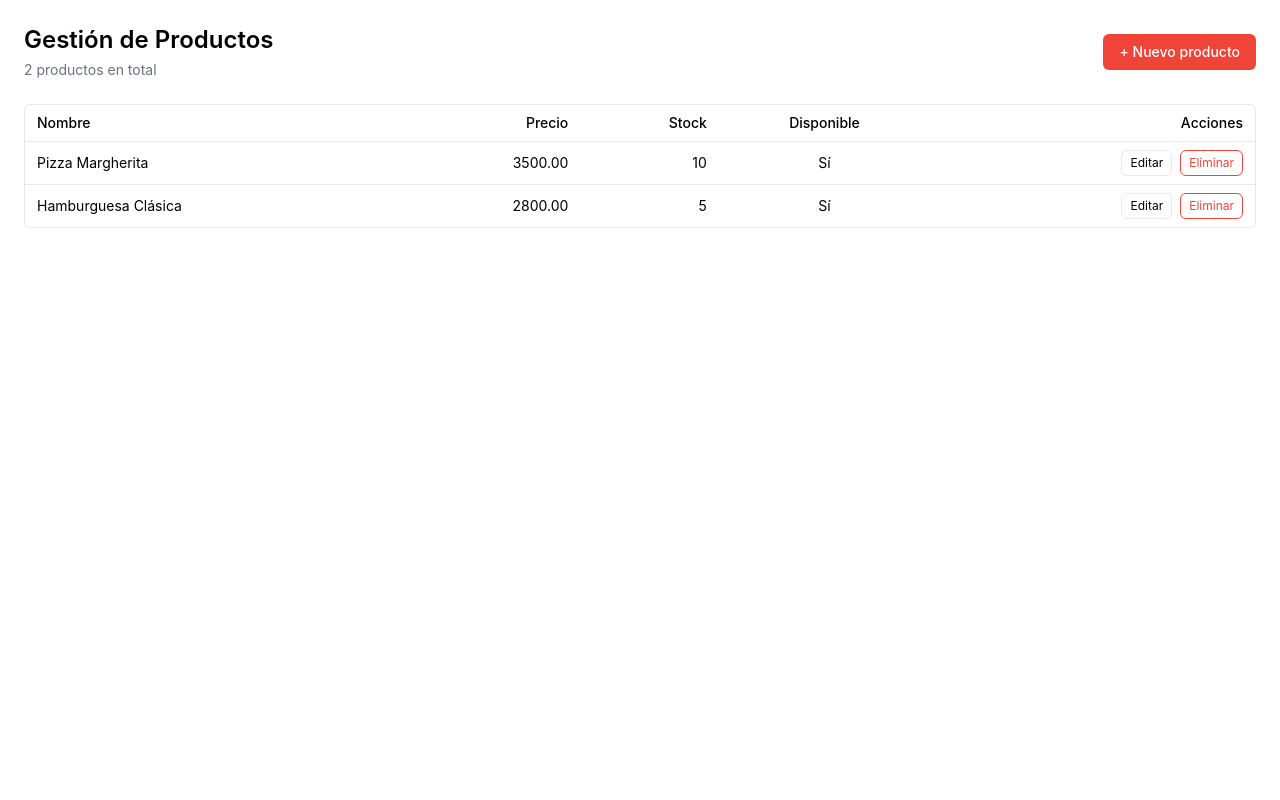
Test: StockProductsPage › opens edit modal with pre-populated name when "Editar" is clicked
Step 1. Click the button "Editar" in the row of "Pizza Margherita" → [1147, 163], box [1122, 150, 1172, 176]
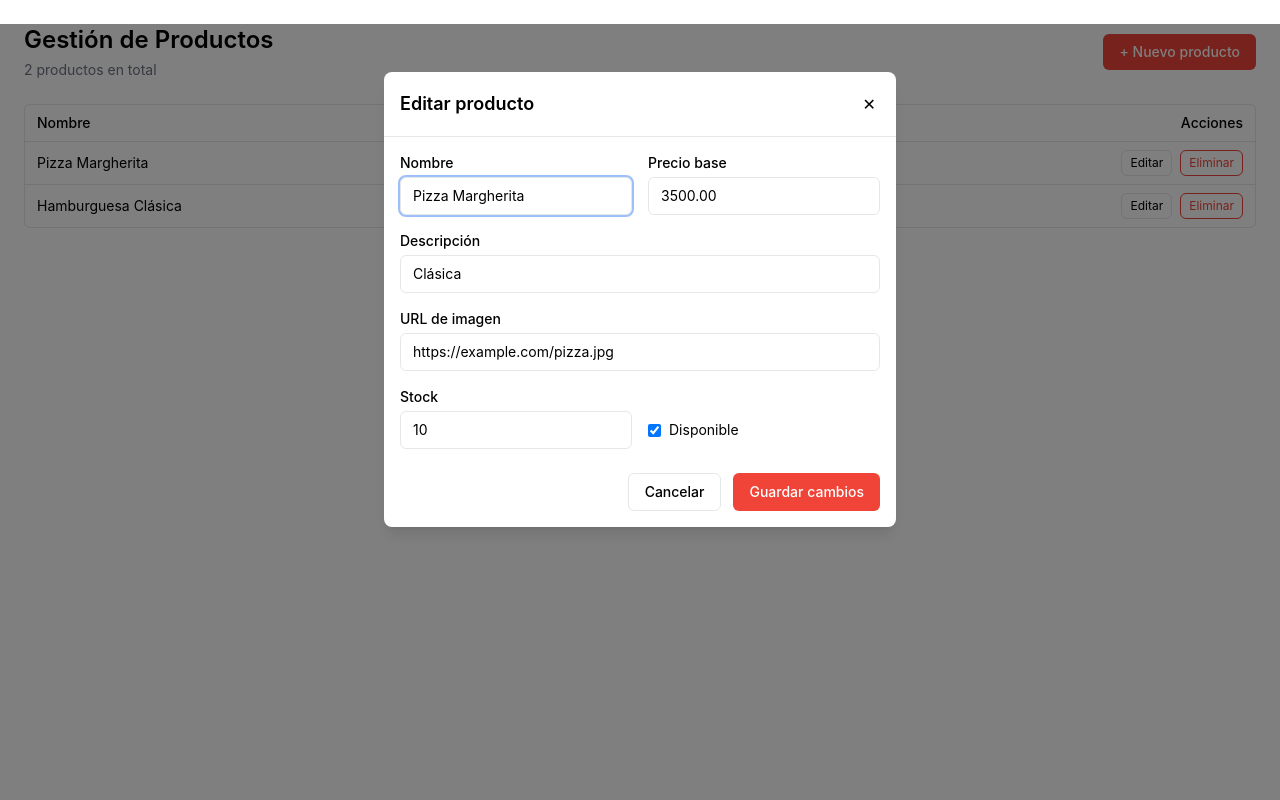
Now the dialog is shown
Now the field labelled "Nombre" holds "Pizza Margherita", box [400, 177, 632, 215]
